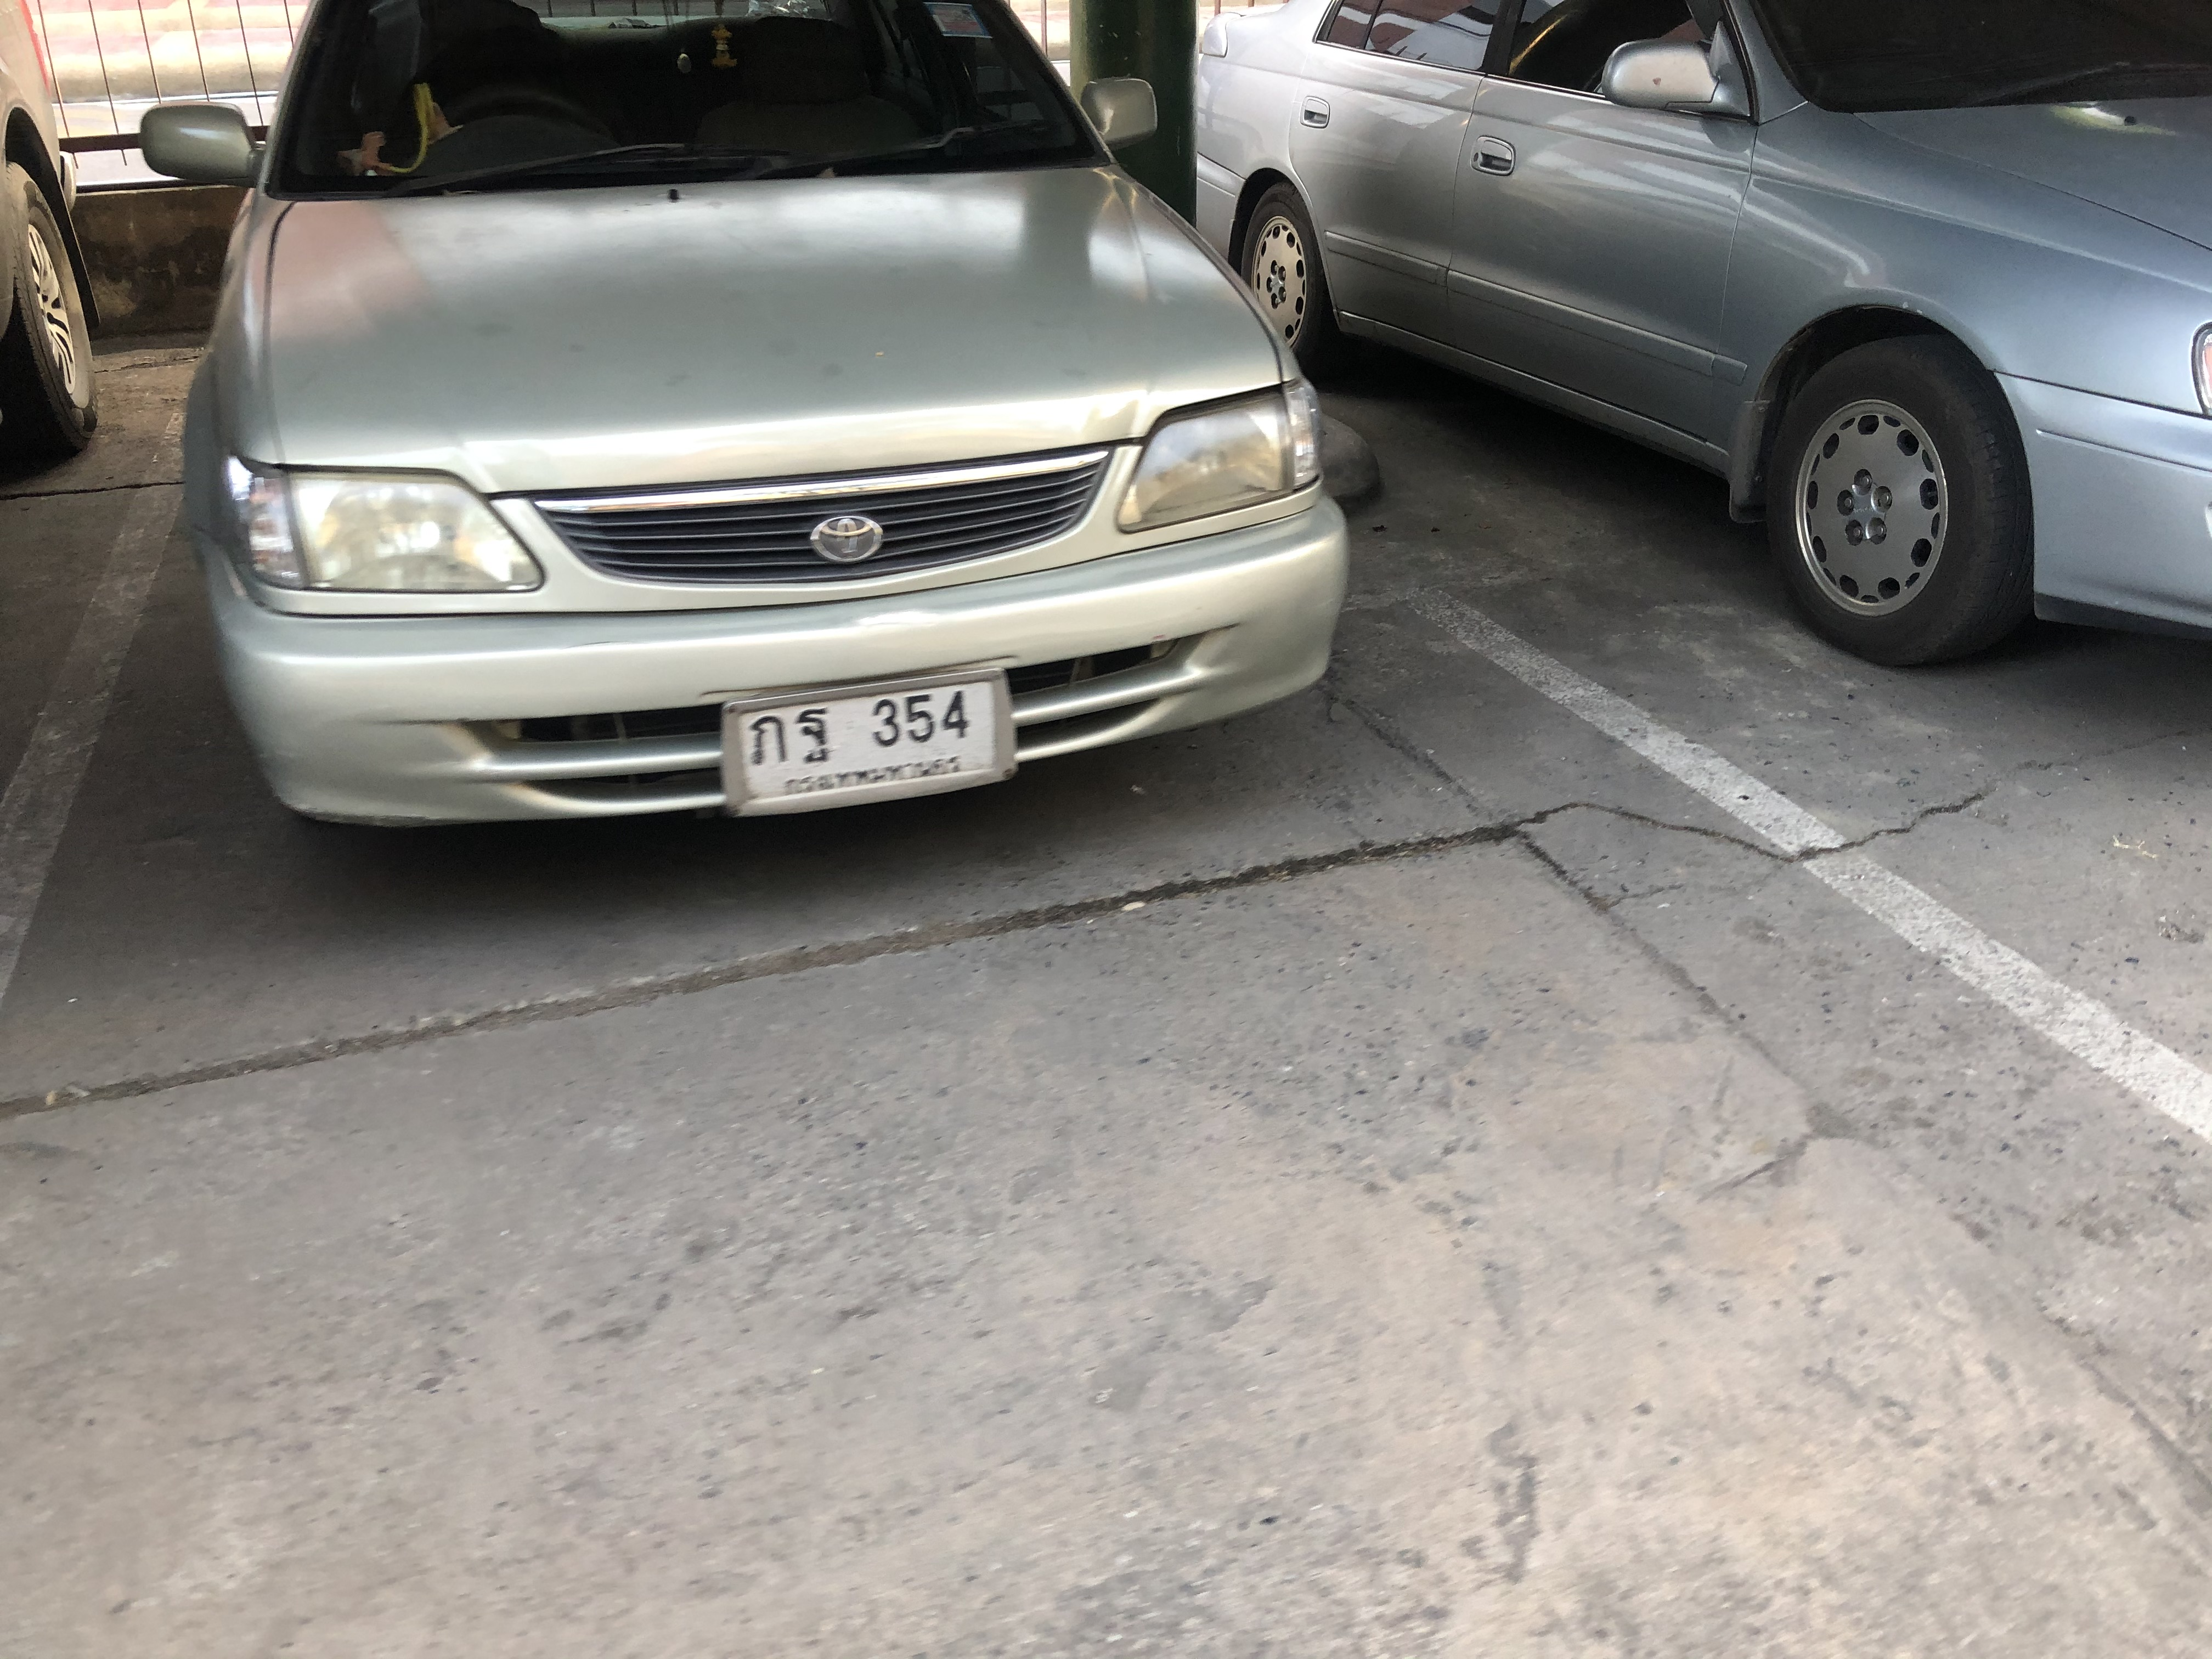in: (742, 678, 1005, 796)
out: (711, 666, 1031, 817)
